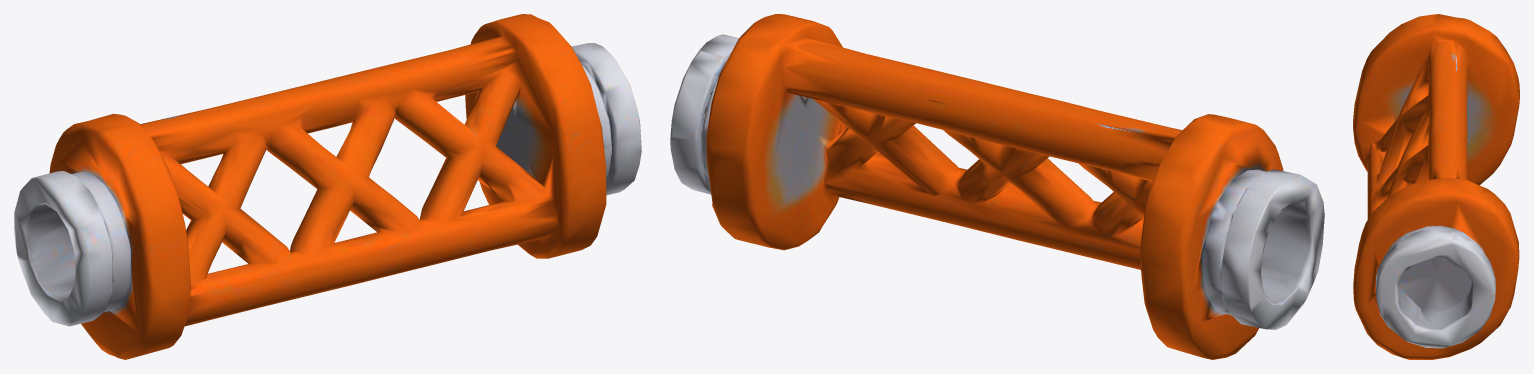
The model's file is truss.glb.
3 renders of one model, left to right at view 1: azimuth 30°, elevation 25°; view 2: azimuth 150°, elevation 25°; view 3: azimuth 270°, elevation 25°, orthographic. The views are drawn at different scales.
Visible parts, largest first — view 1: tripo_node_a59948d6-634a-4398-b87d-e52bc3dd7b9b; view 2: tripo_node_a59948d6-634a-4398-b87d-e52bc3dd7b9b; view 3: tripo_node_a59948d6-634a-4398-b87d-e52bc3dd7b9b.
Boxes of the visible parts, bbox=[...] form: tripo_node_a59948d6-634a-4398-b87d-e52bc3dd7b9b: bbox=[14, 14, 641, 359]; tripo_node_a59948d6-634a-4398-b87d-e52bc3dd7b9b: bbox=[670, 14, 1324, 359]; tripo_node_a59948d6-634a-4398-b87d-e52bc3dd7b9b: bbox=[1353, 14, 1519, 359].
Size of the model in its own units: 0.9793 by 0.3686 by 0.3213.
1 material, 1 textured.
